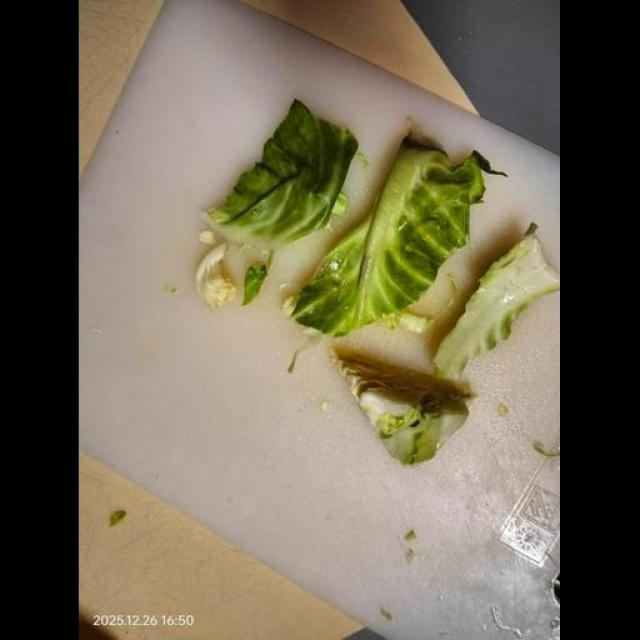organic: (337, 225, 559, 463), (337, 225, 558, 464), (293, 139, 493, 336), (208, 100, 357, 247), (434, 225, 559, 378), (337, 354, 468, 464), (383, 400, 468, 464), (384, 274, 457, 333), (195, 243, 236, 309), (243, 253, 272, 304), (377, 408, 421, 436), (288, 334, 319, 373), (385, 312, 433, 333), (243, 264, 267, 304), (473, 152, 507, 177), (532, 440, 559, 457), (332, 193, 347, 217), (281, 296, 295, 316), (199, 230, 216, 246), (288, 349, 299, 373), (110, 510, 126, 526), (357, 152, 369, 168), (380, 608, 392, 621), (404, 529, 417, 541), (498, 403, 508, 417), (405, 548, 414, 562), (164, 285, 177, 293), (320, 400, 328, 411)
